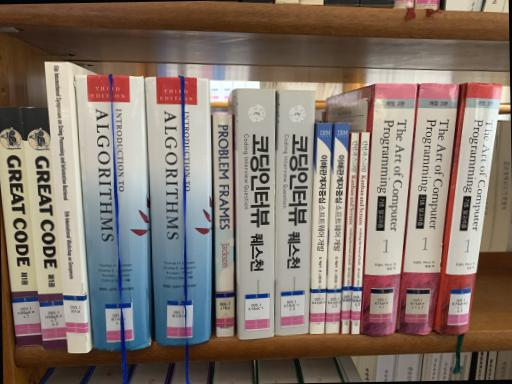book-spine: (75, 75, 152, 352), (145, 77, 211, 346), (435, 82, 503, 335), (397, 83, 459, 335), (361, 84, 418, 336), (44, 62, 88, 352), (21, 107, 67, 351), (0, 107, 43, 347), (236, 88, 276, 340), (275, 90, 315, 335), (325, 123, 351, 333), (213, 113, 235, 338), (310, 123, 333, 334), (351, 133, 371, 335), (341, 133, 360, 334)
